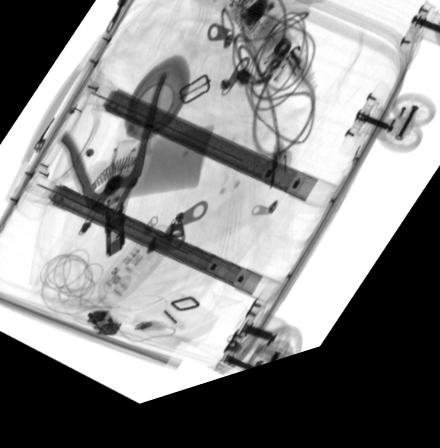Pliers: (56, 82, 166, 266)
